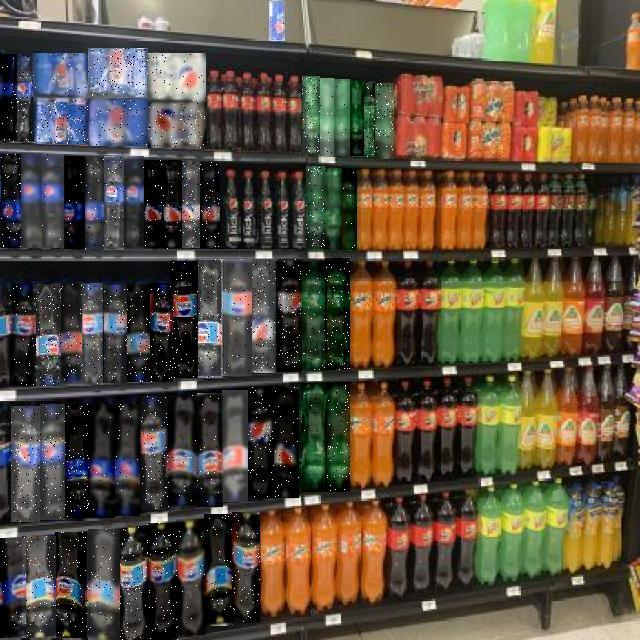Drinks: (147, 523, 178, 640), (56, 533, 90, 639), (88, 529, 120, 640), (116, 526, 147, 640), (176, 519, 206, 635), (22, 536, 56, 638), (11, 406, 40, 522), (204, 514, 234, 626), (198, 259, 226, 378), (171, 260, 199, 378), (225, 259, 253, 376), (169, 396, 197, 510), (142, 396, 170, 510), (232, 512, 260, 623), (89, 48, 149, 98), (197, 393, 223, 507), (64, 405, 90, 519), (252, 259, 278, 373), (89, 97, 149, 146), (223, 390, 249, 502), (40, 405, 65, 521), (273, 387, 299, 498), (248, 387, 274, 498), (33, 285, 61, 387), (90, 404, 115, 518), (148, 53, 206, 102), (148, 100, 207, 148), (115, 404, 140, 516), (325, 258, 350, 370), (302, 260, 327, 371), (325, 383, 350, 492), (302, 383, 327, 492), (278, 259, 302, 372), (32, 54, 88, 102), (10, 283, 36, 386), (0, 539, 26, 639), (34, 99, 89, 144), (80, 283, 103, 385), (150, 283, 173, 382), (127, 284, 150, 382), (104, 285, 127, 383), (60, 284, 82, 386), (42, 155, 64, 249), (21, 154, 43, 248), (63, 156, 85, 249), (125, 156, 145, 250), (105, 156, 125, 250), (1, 154, 21, 248), (85, 156, 105, 249), (144, 160, 164, 248), (200, 163, 220, 249), (13, 56, 33, 142), (163, 160, 182, 249), (182, 161, 200, 249), (306, 166, 325, 249), (324, 168, 342, 250), (0, 55, 17, 141), (302, 77, 320, 155), (341, 168, 357, 250), (335, 79, 351, 156), (378, 83, 394, 159), (364, 83, 380, 157), (320, 78, 334, 156), (350, 81, 364, 157), (269, 1, 285, 41)
